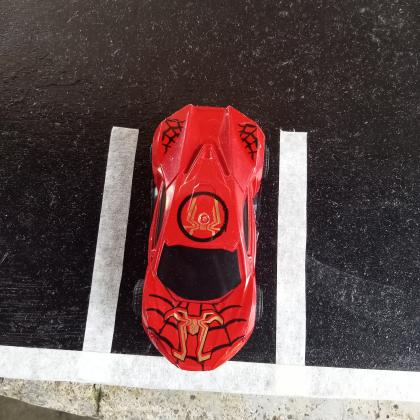Car: (128, 104, 276, 373)
